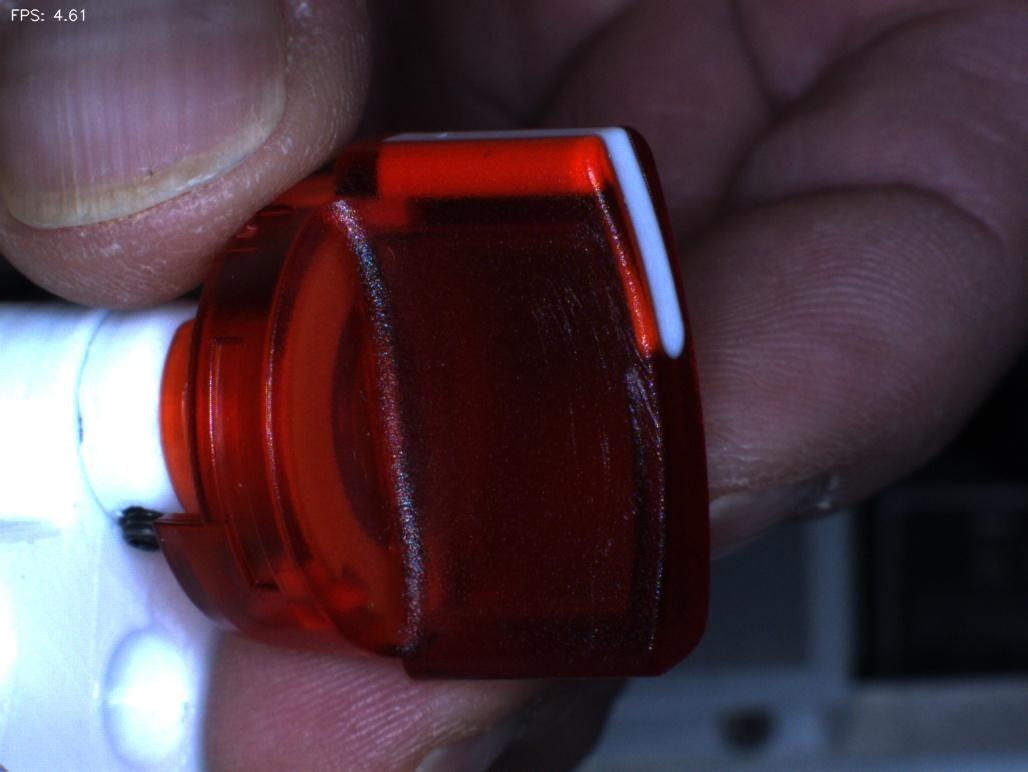Givrage: (518, 231, 653, 485)
